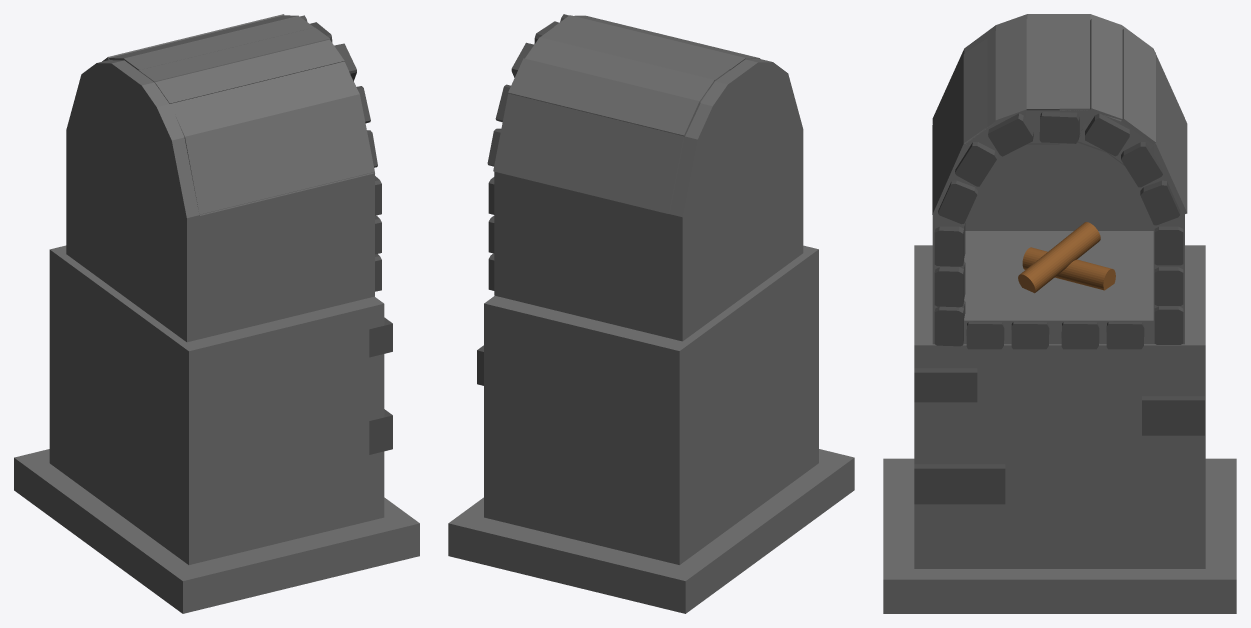
The model's file is stove4.fbx.
The picture shows the model from 3 angles, left to right: view 1: azimuth 30°, elevation 25°; view 2: azimuth 150°, elevation 25°; view 3: azimuth 270°, elevation 25°; orthographic projection. The views are drawn at different scales.
Visible parts, largest first — view 1: Cube.001, Cube, Cube.009, Cube.004; view 2: Cube.001, Cube, Cube.009; view 3: Cube.001, Cube, Cube.009, Cube.004, Cylinder.001.
Boxes of the visible parts, <box> form: Cube.001: <box>14,245,419,613</box>; Cube: <box>66,14,374,342</box>; Cube.009: <box>300,15,381,291</box>; Cube.004: <box>369,317,392,454</box>; Cube.001: <box>448,245,854,613</box>; Cube: <box>493,15,803,341</box>; Cube.009: <box>487,14,568,290</box>; Cube.001: <box>883,245,1236,613</box>; Cube: <box>932,14,1187,344</box>; Cube.009: <box>934,112,1183,349</box>; Cube.004: <box>914,368,1204,504</box>; Cylinder.001: <box>1018,222,1115,293</box>.
Size of the model in its own units: 359 by 685 by 443.
